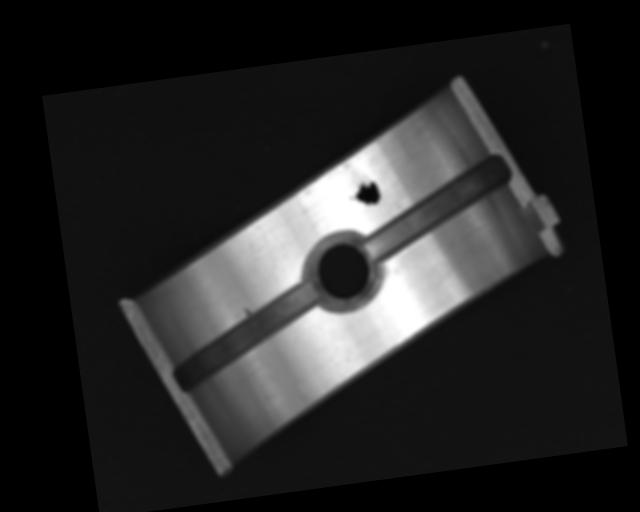blot: (346, 171, 383, 209)
bruise: (242, 305, 253, 317)
gap: (164, 278, 326, 391), (356, 152, 518, 259)
hole: (303, 231, 380, 313)
